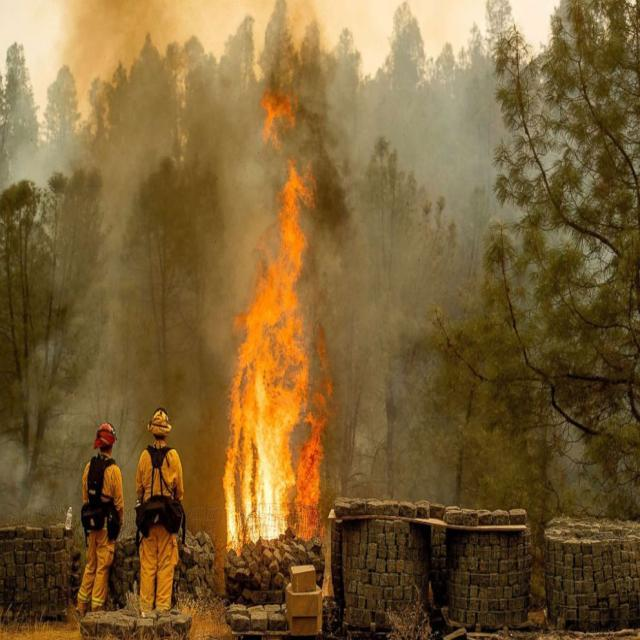Fire: (218, 76, 342, 564)
Smoke: (0, 0, 270, 543), (268, 0, 520, 520)
